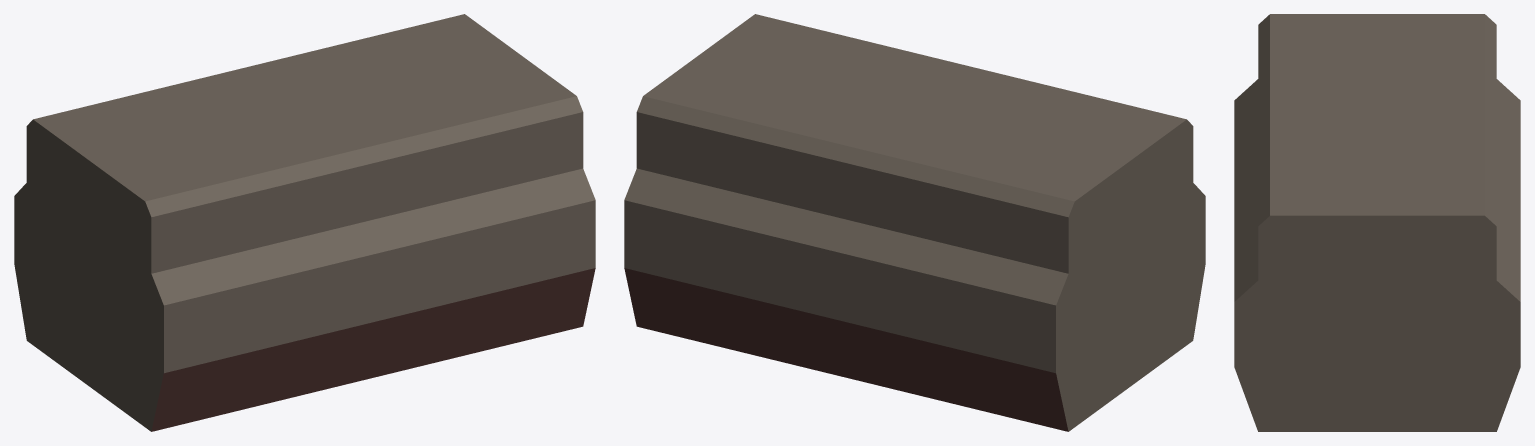
Rendered from steampunk_wall_stone_half.fbx.
The picture shows the model from 3 angles, left to right: view 1: azimuth 30°, elevation 25°; view 2: azimuth 150°, elevation 25°; view 3: azimuth 270°, elevation 25°; orthographic projection. The views are drawn at different scales.
Visible parts, largest first — view 1: Cube.008; view 2: Cube.008; view 3: Cube.008.
Part boxes in pixels (<box>): Cube.008: <box>14,14,595,431</box>; Cube.008: <box>624,14,1205,431</box>; Cube.008: <box>1234,14,1520,431</box>.
Bounding box in the file's own units: 3 × 1.5 × 1.8.
